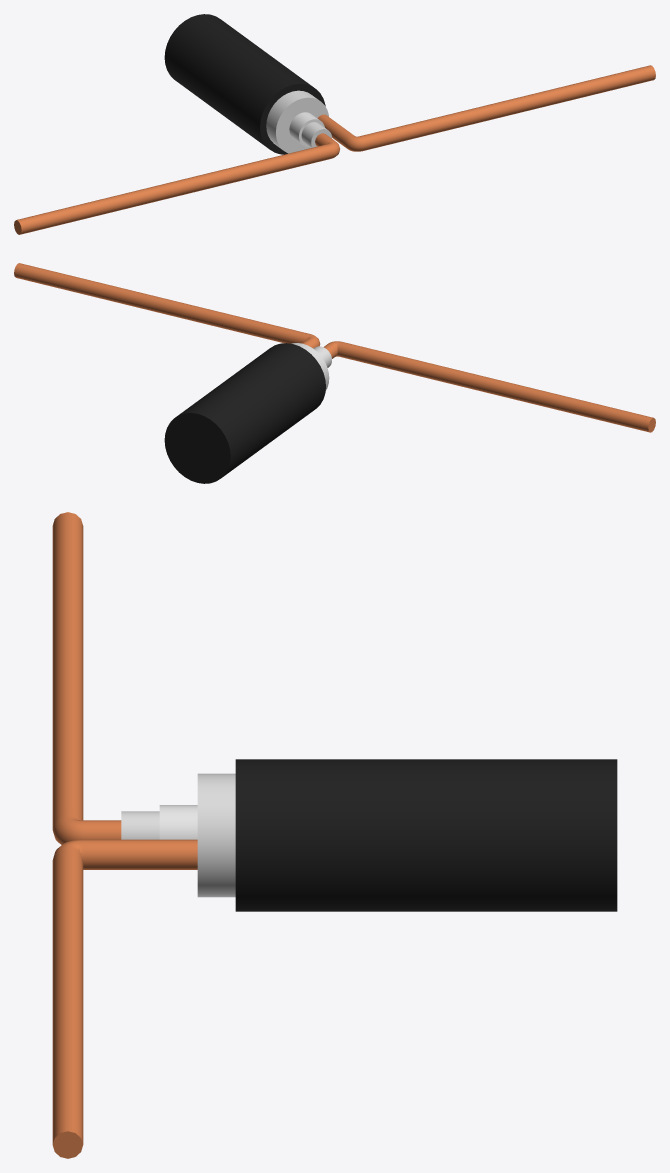
The model's file is dipole.glb.
3 views of the same model, one above another, from view 1: azimuth 30°, elevation 25°; view 2: azimuth 150°, elevation 25°; view 3: azimuth 270°, elevation 25° (orthographic). The views are drawn at different scales.
Parts seen in each view (by area): view 1: Cylinder, Point.001, Point; view 2: Cylinder, Point, Point.001; view 3: Cylinder, Point.001, Point.
Boxes of the visible parts, left/top/right/bottom form: Cylinder: left=164, top=14, right=331, bottom=154; Point.001: left=317, top=65, right=655, bottom=151; Point: left=14, top=133, right=339, bottom=234; Cylinder: left=164, top=343, right=331, bottom=483; Point: left=323, top=341, right=655, bottom=432; Point.001: left=14, top=263, right=320, bottom=348; Cylinder: left=121, top=759, right=617, bottom=911; Point.001: left=52, top=839, right=197, bottom=1158; Point: left=52, top=512, right=121, bottom=844.
Bounding box in the file's own units: 1.92 × 0.2 × 0.74.
